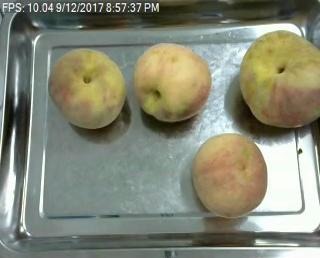Peach: (238, 28, 319, 126), (47, 46, 127, 130), (192, 133, 268, 218), (133, 41, 210, 123)
